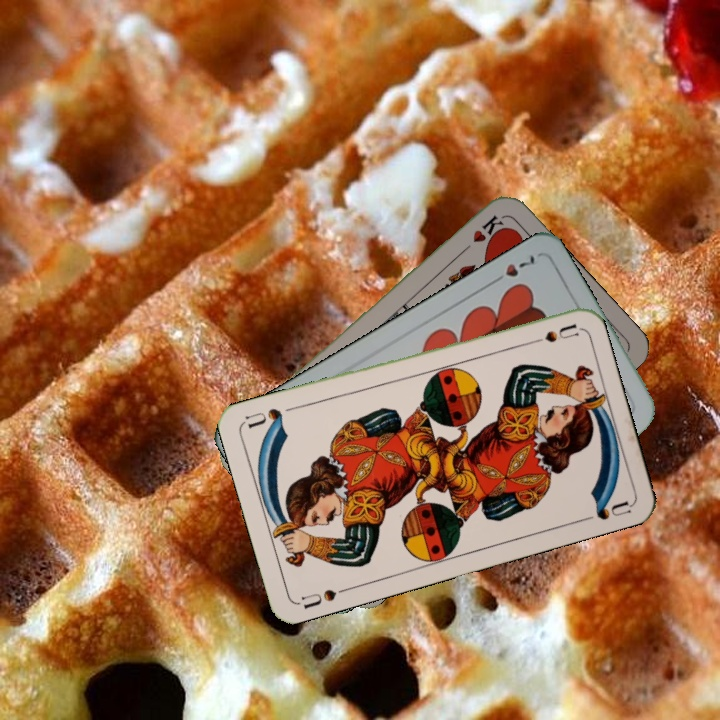H7: (486, 250, 541, 287)
HK: (455, 210, 507, 257)
SU: (521, 319, 580, 349), (294, 583, 353, 612)
